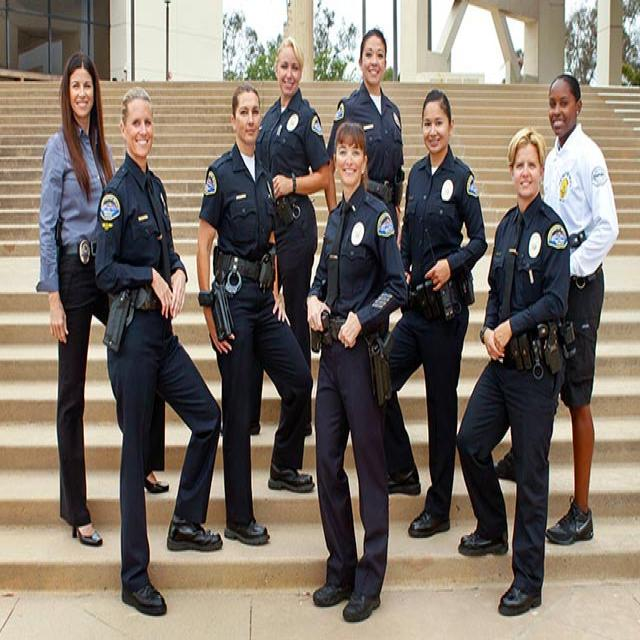police: (94, 83, 214, 617), (450, 116, 576, 610), (191, 84, 305, 556), (297, 134, 403, 620), (390, 84, 478, 561), (238, 33, 327, 344), (331, 29, 409, 242)
